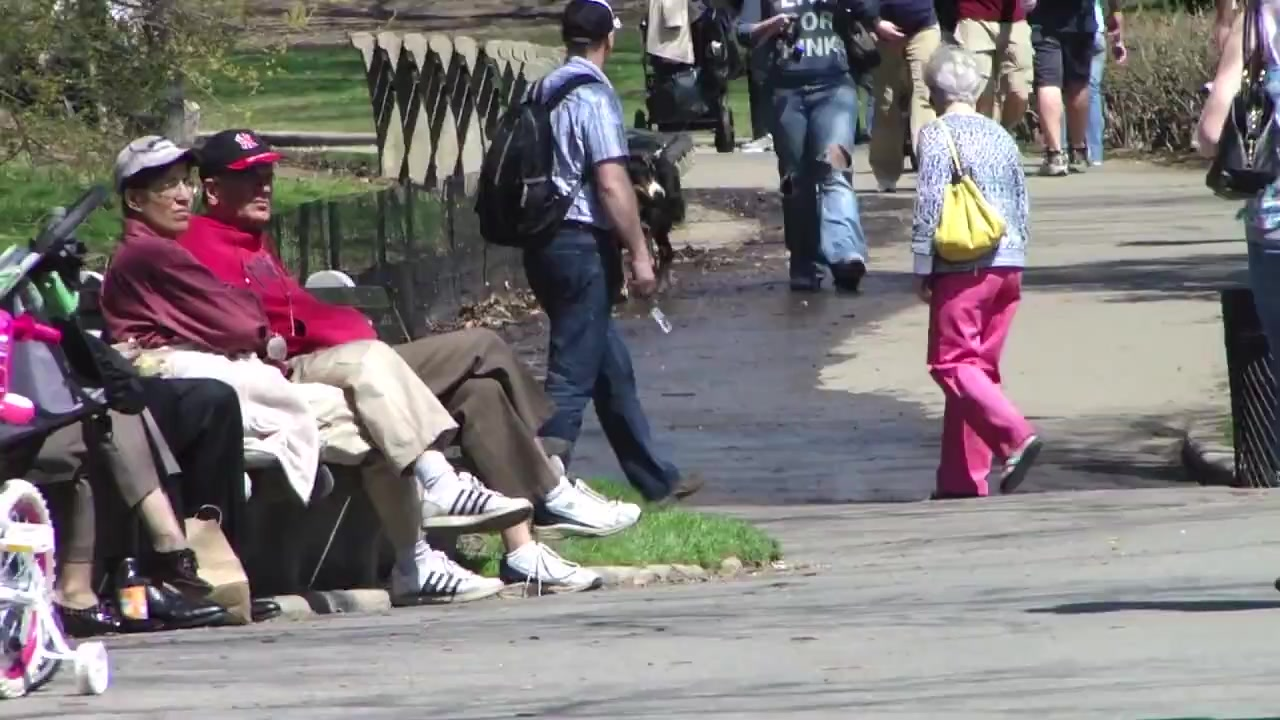dog: (625, 149, 686, 299)
